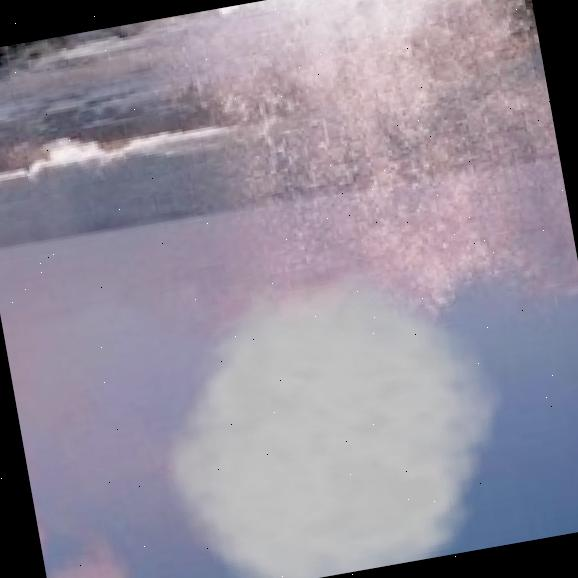smoke: (126, 244, 535, 578)
